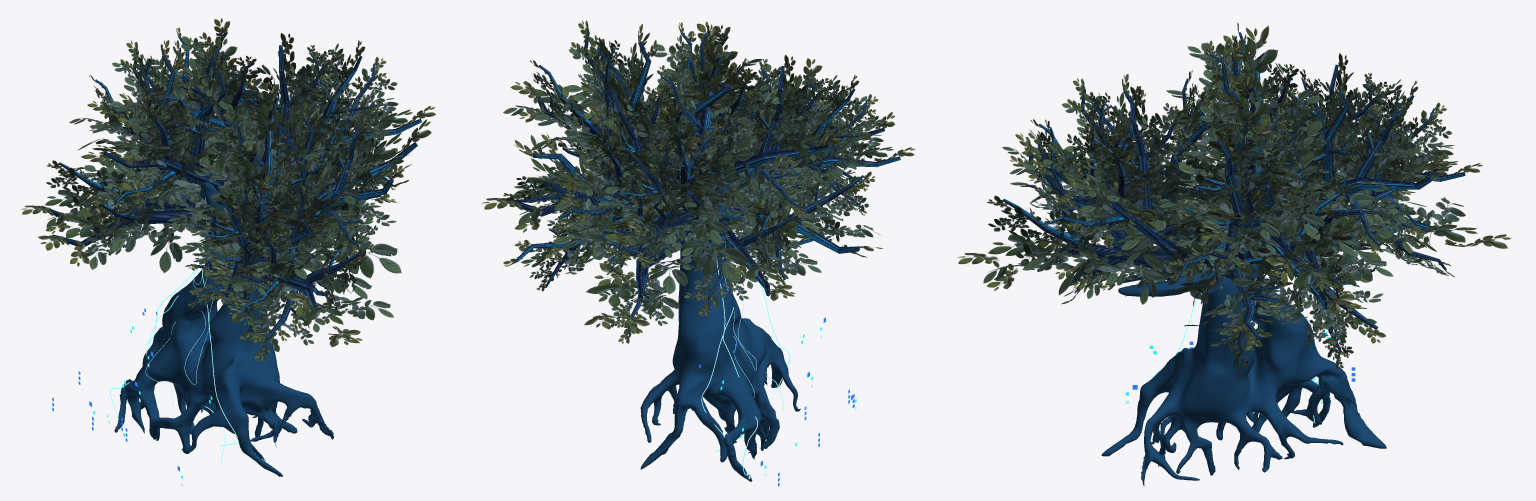
File: Tree_WO_base.glb
The picture shows the model from 3 angles, left to right: view 1: azimuth 30°, elevation 25°; view 2: azimuth 150°, elevation 25°; view 3: azimuth 270°, elevation 25°; orthographic projection. The views are drawn at different scales.
Visible parts, largest first — view 1: Bark and roots, Tree branch blue1.021, Tree branch blue1.025, Tree branch blue1.020, Tree branch blue1.014, Tree branch blue1.019, Tree branch blue1.028, Tree branch blue1.023, Tree branch blue1.016, Tree branch blue1.026, Tree branch blue1.022, Tree branch blue1.024 (+5 smaller); view 2: Tree branch blue1.020, Bark and roots, Tree branch blue1.025, Tree branch blue1.021, Tree branch blue1.026, Tree branch blue1.023, Tree branch blue1.016, Tree branch blue1.002, Tree branch blue1.017, Tree branch blue1.019, Tree branch blue1.028, Tree branch blue1.018 (+6 smaller); view 3: Bark and roots, Tree branch blue1.025, Tree branch blue1.026, Tree branch blue1.028, Tree branch blue1.020, Tree branch blue1.021, Tree branch blue1.017, Tree branch blue1.015, Tree branch blue1.014, Tree branch blue1.018, Tree branch blue1.002, Tree branch blue1.005 (+5 smaller).
Part boxes in pixels (box(x1,y1,x2,y2)): Bark and roots: box(114, 182, 333, 476); Tree branch blue1.021: box(179, 80, 350, 308); Tree branch blue1.025: box(159, 33, 435, 215); Tree branch blue1.020: box(69, 40, 261, 245); Tree branch blue1.014: box(217, 228, 401, 361); Tree branch blue1.019: box(38, 163, 208, 272); Tree branch blue1.028: box(270, 102, 411, 255); Tree branch blue1.023: box(92, 93, 232, 206); Tree branch blue1.016: box(21, 157, 194, 240); Tree branch blue1.026: box(117, 18, 274, 173); Tree branch blue1.022: box(249, 113, 431, 250); Tree branch blue1.024: box(219, 221, 330, 318); Tree branch blue1.020: box(597, 39, 776, 268); Bark and roots: box(640, 183, 800, 481); Tree branch blue1.025: box(503, 20, 762, 259); Tree branch blue1.021: box(680, 51, 915, 215); Tree branch blue1.026: box(537, 77, 693, 231); Tree branch blue1.023: box(710, 83, 845, 221); Tree branch blue1.016: box(662, 189, 821, 316); Tree branch blue1.002: box(553, 208, 747, 333); Tree branch blue1.017: box(503, 134, 674, 291); Tree branch blue1.019: box(717, 168, 883, 285); Tree branch blue1.028: box(645, 21, 777, 173); Tree branch blue1.018: box(481, 133, 708, 232); Bark and roots: box(1101, 180, 1386, 486); Tree branch blue1.025: box(1159, 25, 1356, 280); Tree branch blue1.026: box(1278, 69, 1454, 255); Tree branch blue1.028: box(1033, 86, 1194, 267); Tree branch blue1.020: box(1221, 40, 1482, 232); Tree branch blue1.021: box(1009, 70, 1233, 304); Tree branch blue1.017: box(1233, 169, 1388, 369); Tree branch blue1.015: box(1143, 187, 1321, 378); Tree branch blue1.014: box(957, 195, 1189, 304); Tree branch blue1.018: box(1176, 178, 1393, 315); Tree branch blue1.002: box(1260, 167, 1511, 265); Tree branch blue1.005: box(1028, 126, 1139, 251).
Bounding box in the file's own units: 31.5 × 30.72 × 36.4.
Materials: 10 (4 with a texture image).
